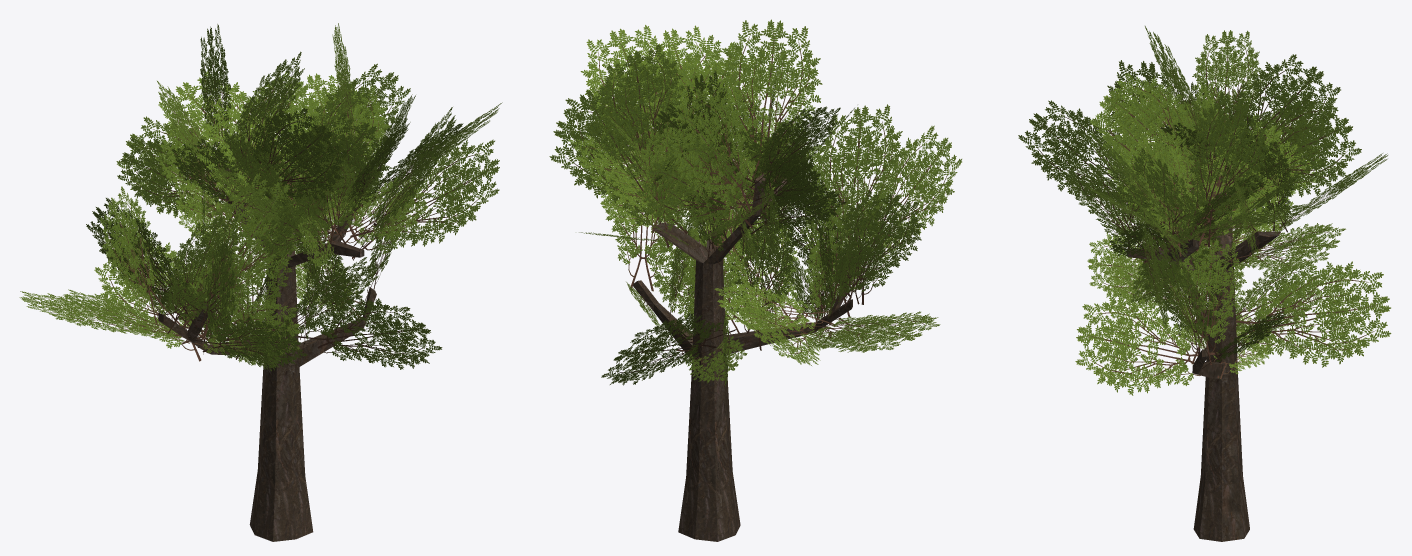
Rendered from Tree01 (1).fbx.
3 views of the same model, side by side, from view 1: azimuth 30°, elevation 25°; view 2: azimuth 150°, elevation 25°; view 3: azimuth 270°, elevation 25° (orthographic). The views are drawn at different scales.
Visible parts, largest first — view 1: Cube.113; view 2: Cube.113; view 3: Cube.113.
Part boxes in pixels (bbox=[...]): Cube.113: bbox=[19, 23, 502, 541]; Cube.113: bbox=[549, 19, 961, 541]; Cube.113: bbox=[1018, 26, 1391, 541].
Size of the model in its own units: 467 by 495 by 365.
